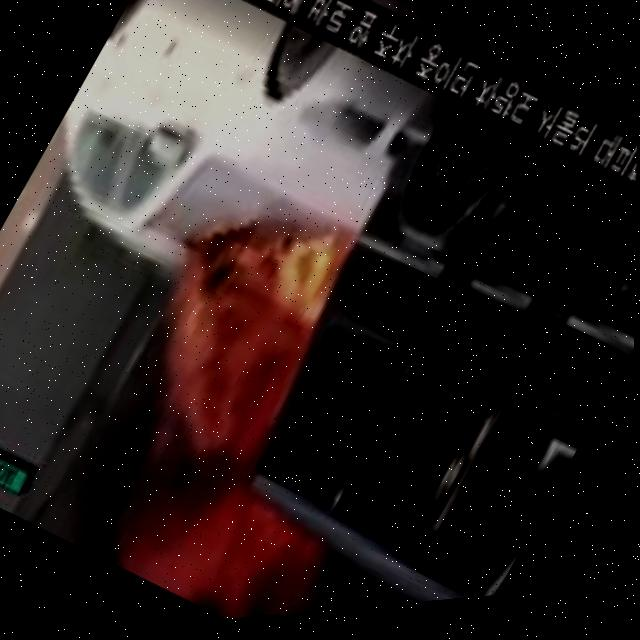Fire: (29, 156, 498, 637)
